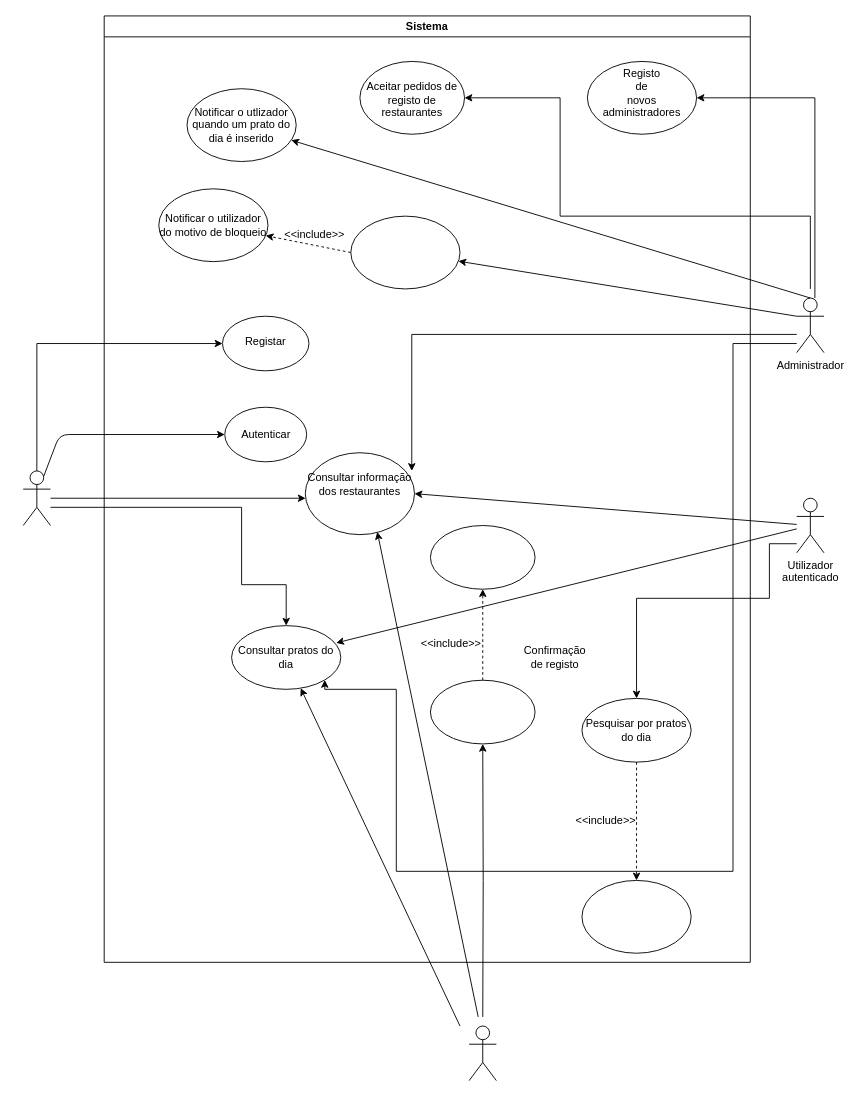
This 860x1116 diagram has some shape labels left out. The shapes that lost their labels are listed below. From the top down, each one's centre as x and y in pixels, then its label:
pixel 405 252: Bloqueio de acesso a utliizadores
pixel 36 498: Visitante
pixel 482 557: Notificação de registo do prato do dia
pixel 482 711: Registar pratos do dia
pixel 636 916: Editar listas de pratos e restaurantes preferidos
pixel 482 1053: Restaurante
